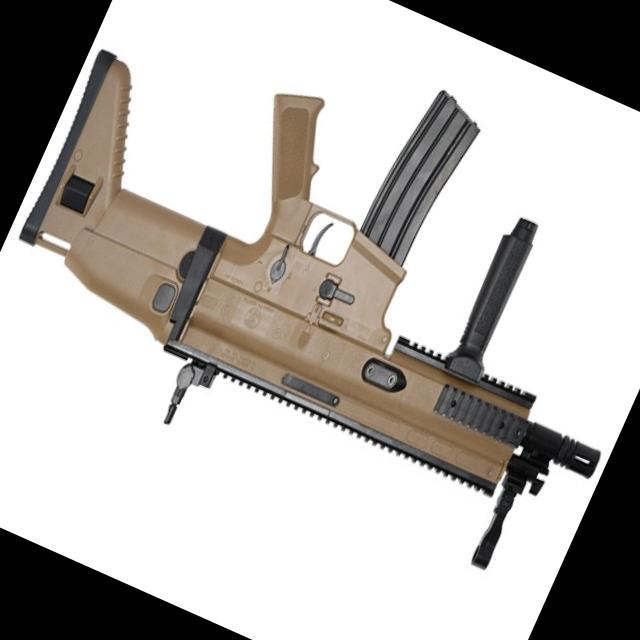Weapon: (0, 0, 640, 606)
